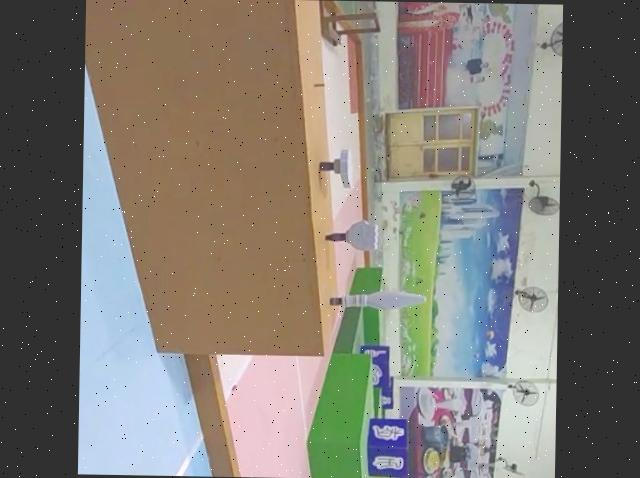Fist: (327, 217, 378, 253)
Hand: (318, 147, 354, 189)
Sph: (329, 286, 429, 313)
